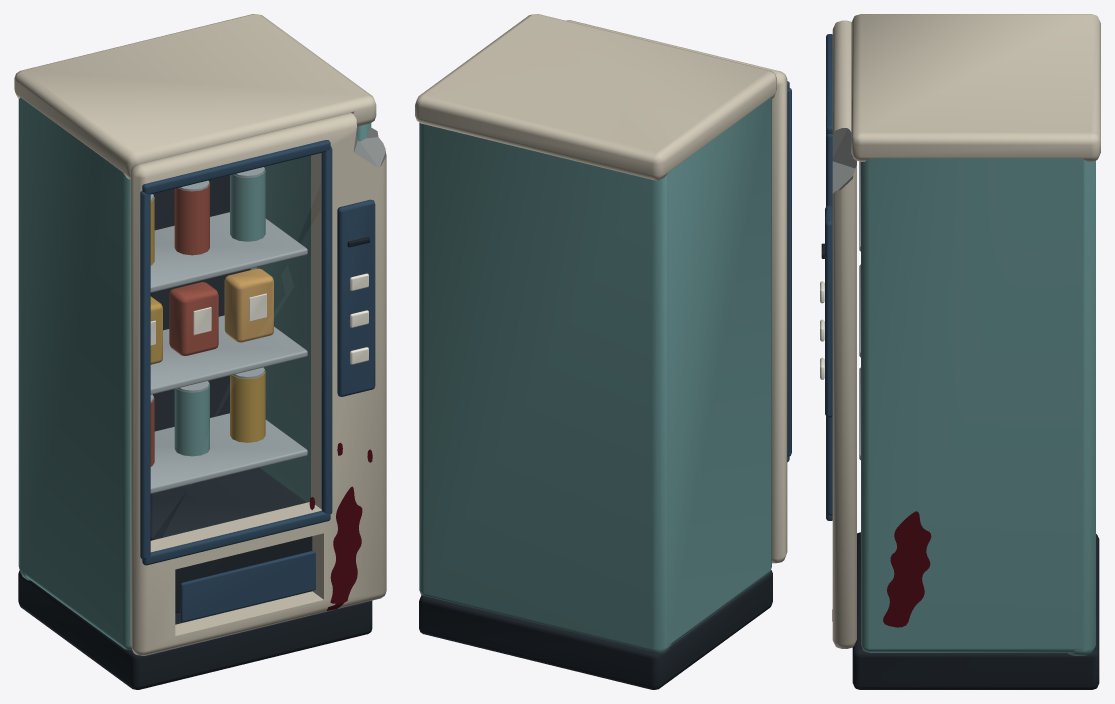
File: cafeteria_vending_machine.glb
3 renders of one model, left to right at view 1: azimuth 30°, elevation 25°; view 2: azimuth 150°, elevation 25°; view 3: azimuth 270°, elevation 25°, orthographic. The views are drawn at different scales.
Parts seen in each view (by area): view 1: Static_Shell_Mesh, Service_Front_Door_Mesh; view 2: Static_Shell_Mesh, Service_Front_Door_Mesh; view 3: Static_Shell_Mesh, Service_Front_Door_Mesh.
Boxes of the visible parts, left/top/right/bottom form: Static_Shell_Mesh: left=14, top=14, right=376, bottom=689; Service_Front_Door_Mesh: left=130, top=111, right=386, bottom=655; Static_Shell_Mesh: left=415, top=14, right=776, bottom=689; Service_Front_Door_Mesh: left=566, top=20, right=791, bottom=563; Static_Shell_Mesh: left=851, top=14, right=1100, bottom=689; Service_Front_Door_Mesh: left=820, top=20, right=856, bottom=648.
Bounding box in the file's own units: 0.9301 × 1.9 × 0.866.
